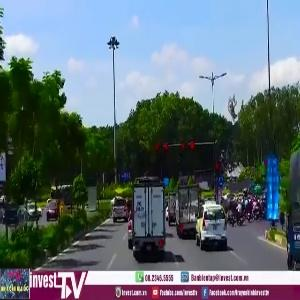drone: (199, 143, 289, 233)
